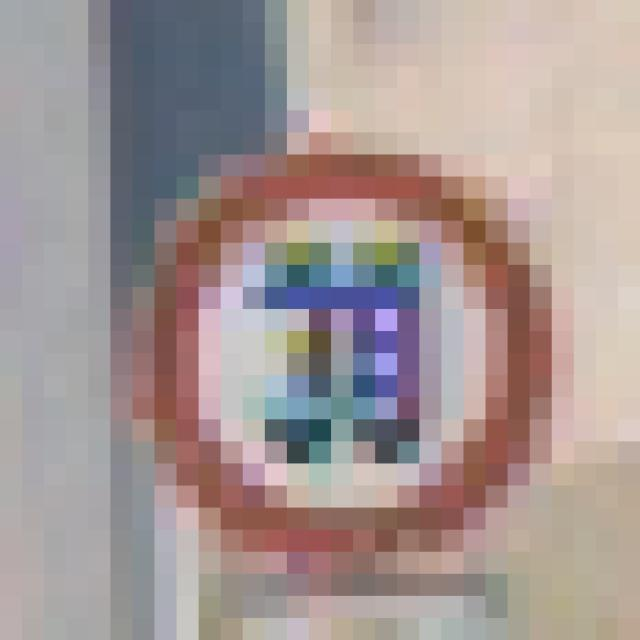Speed Limit -30-: (100, 100, 497, 497)
